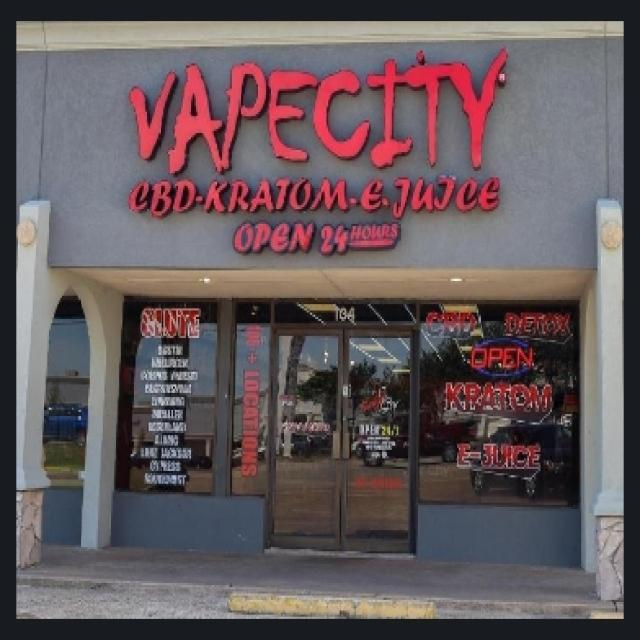Vape-images: (124, 44, 509, 256)
